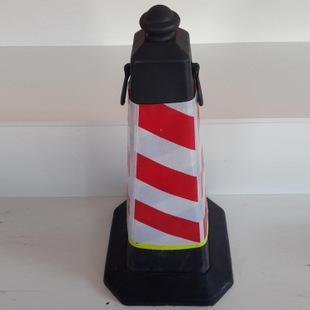cone_barrel: (105, 1, 234, 301)
